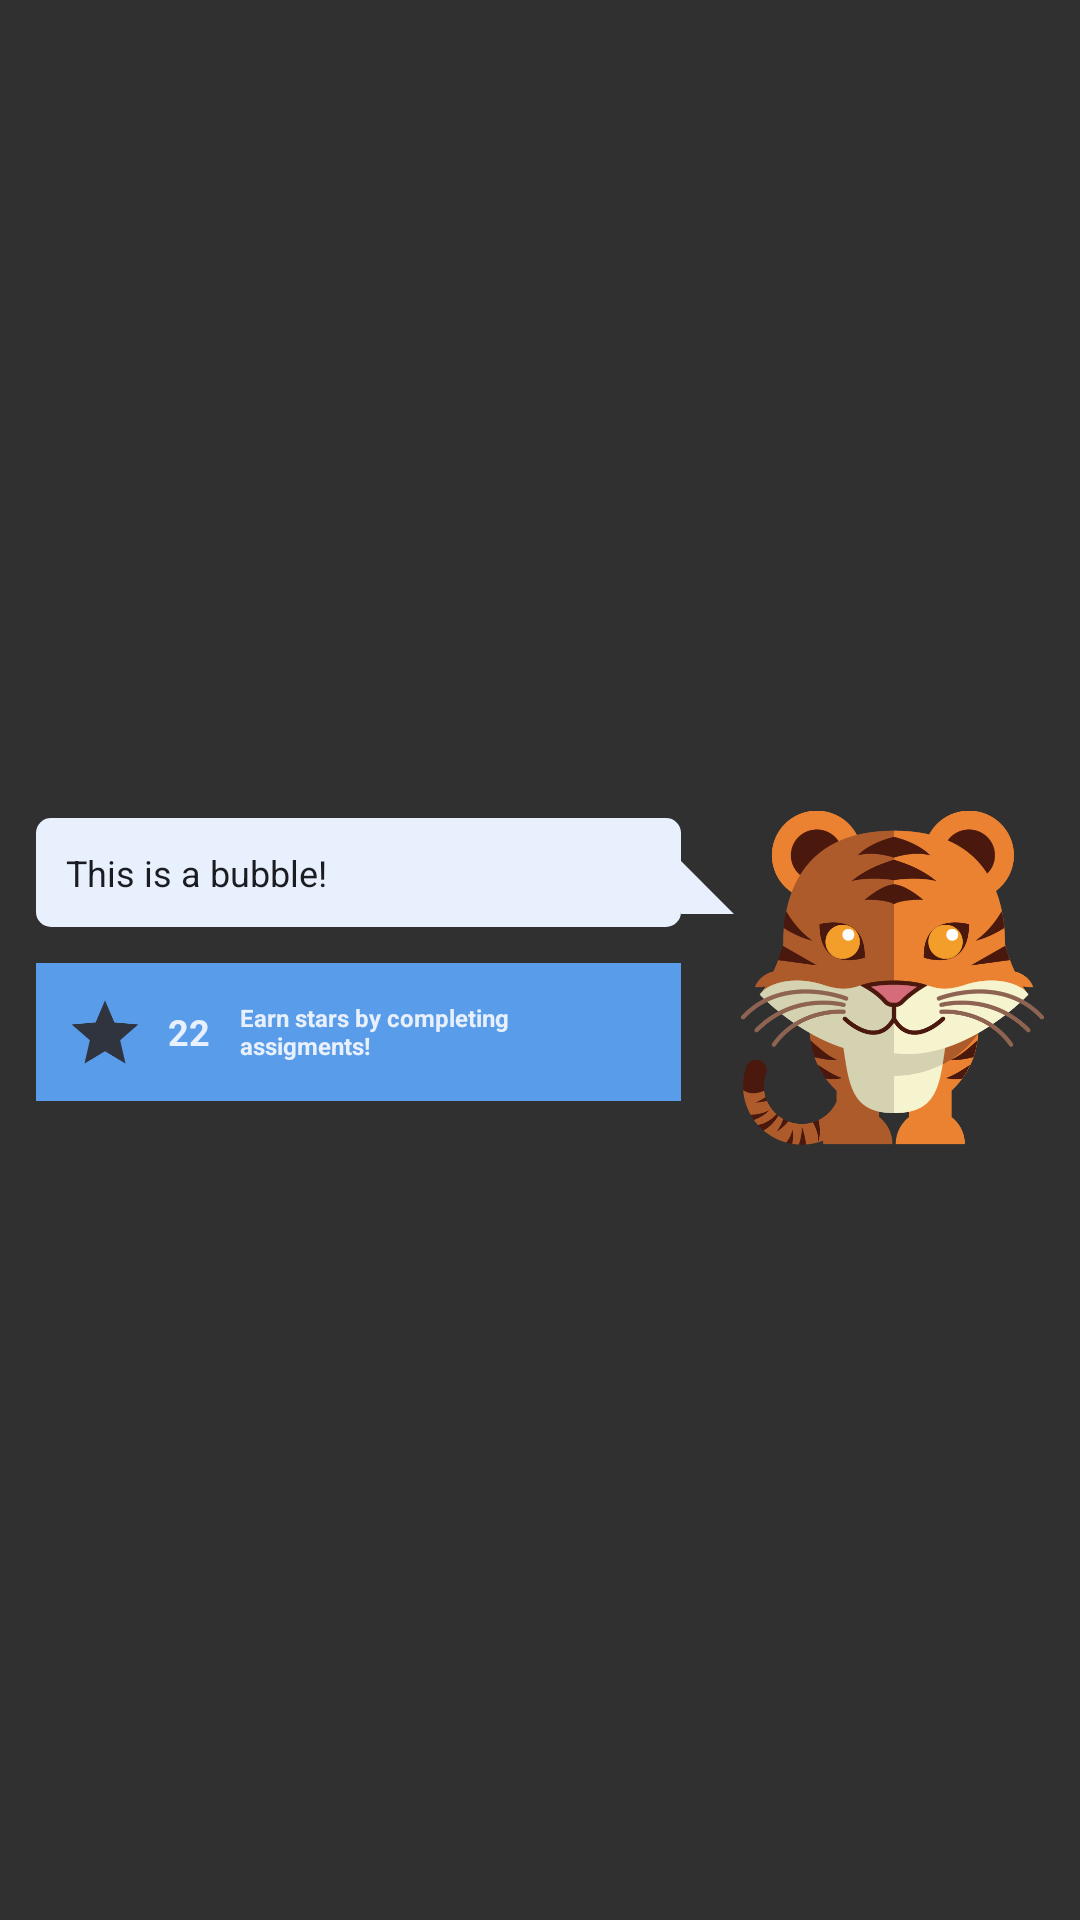

Point at icon controls on the screen. Image size 1080w x 1920h, points as (x=x, y=y).
Animal: (x=892, y=978)
